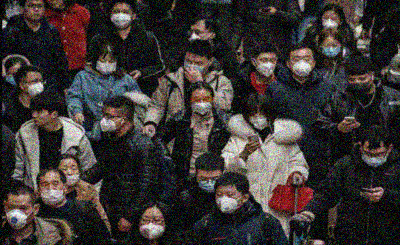mask_weared_incorrect: (59, 163, 80, 186)
with_mask: (6, 201, 32, 229), (138, 213, 166, 239), (214, 189, 243, 214), (40, 178, 66, 205), (190, 93, 213, 116), (289, 54, 312, 77), (183, 57, 208, 78), (361, 148, 389, 166), (197, 172, 222, 192), (347, 74, 371, 94), (256, 55, 277, 77), (111, 8, 132, 28), (187, 27, 210, 45), (99, 110, 117, 132), (249, 110, 268, 130), (95, 57, 117, 74), (28, 75, 44, 97), (322, 40, 340, 58), (321, 14, 339, 29), (6, 69, 20, 87)
without_mask: (25, 1, 45, 21), (32, 108, 49, 125)
